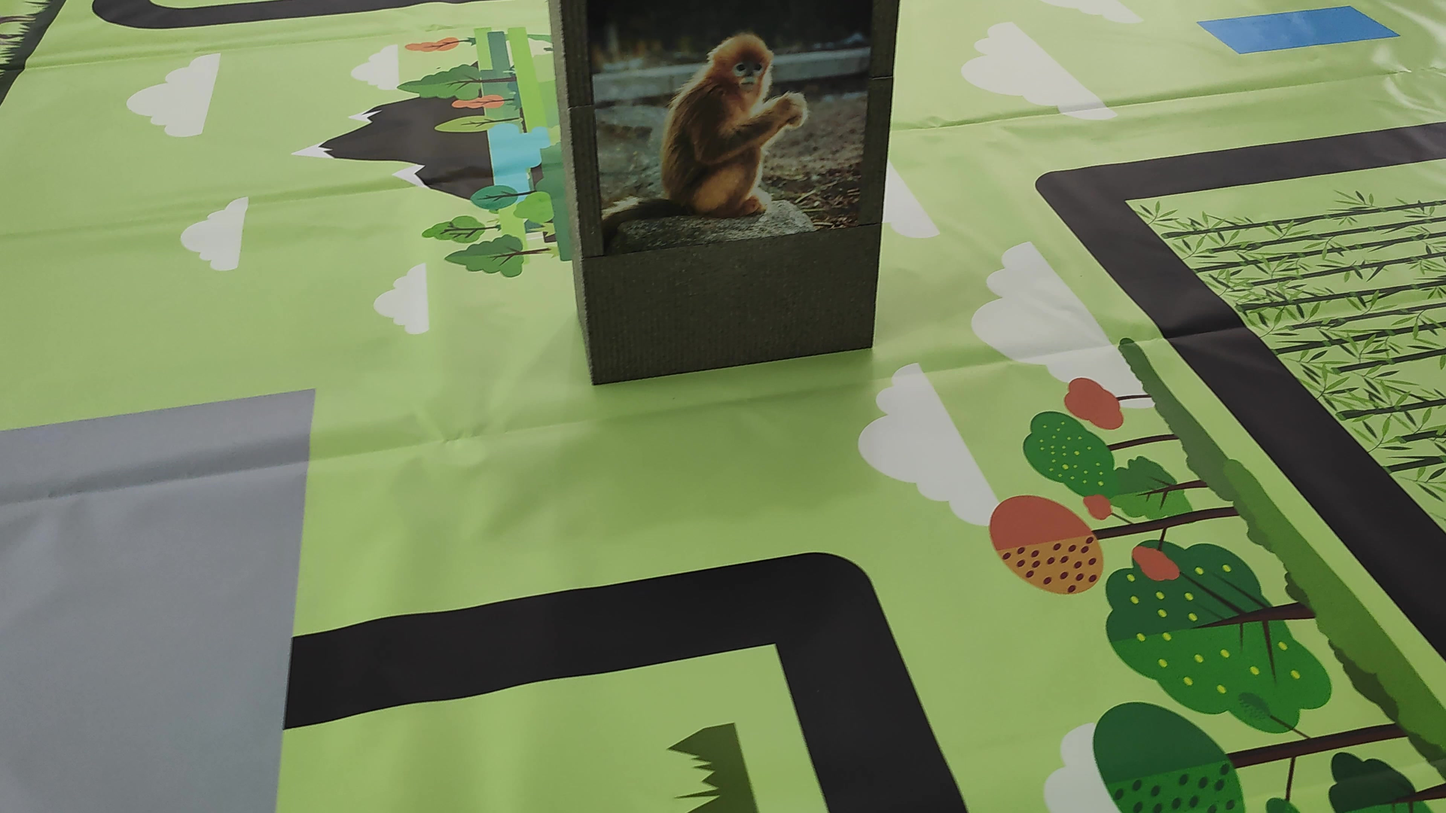monkey: (637, 15, 842, 232)
